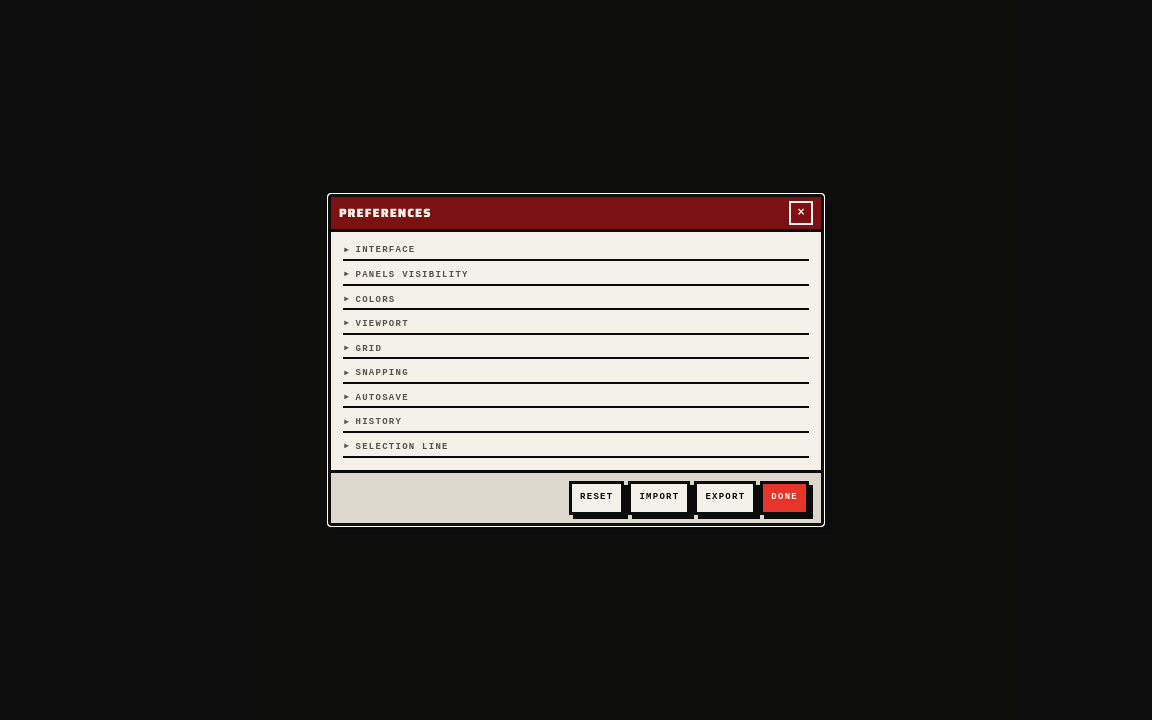
Test: PreferencesDialog › shows dark mode as on when the top bar switched it
Click the button "▸ INTERFACE": (385, 250) [343,244,809,259]
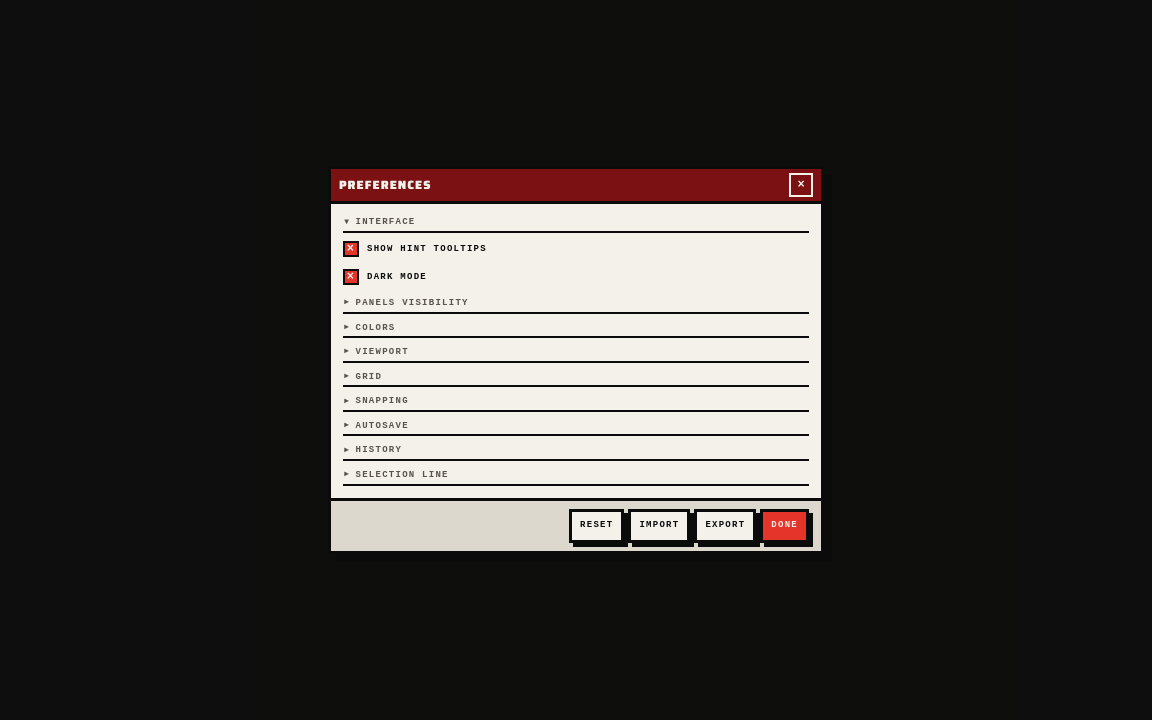
Now the checkbox labelled "DARK MODE" is checked, box [343,269,427,285]
